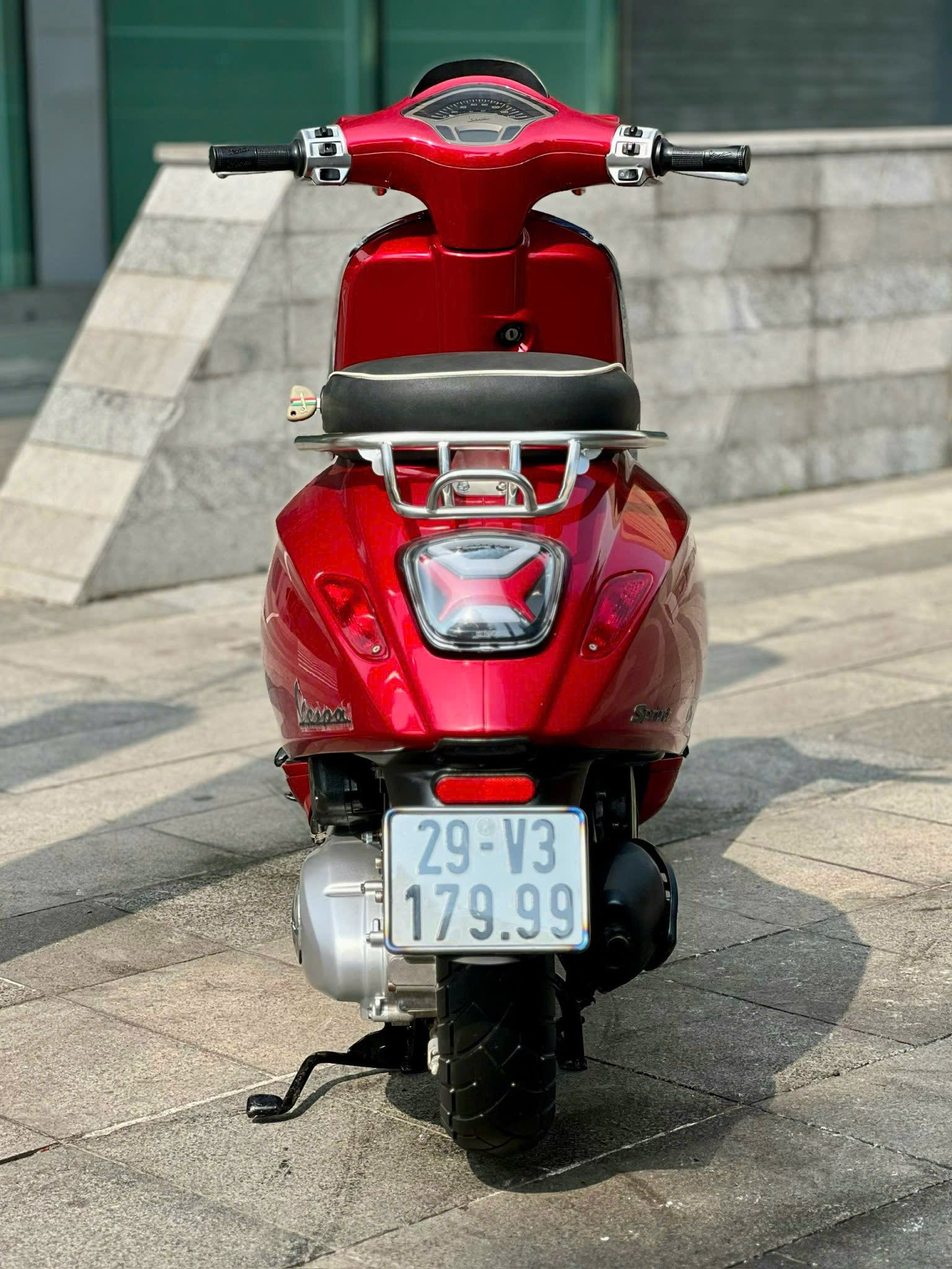bien_so: (373, 798, 595, 963)
